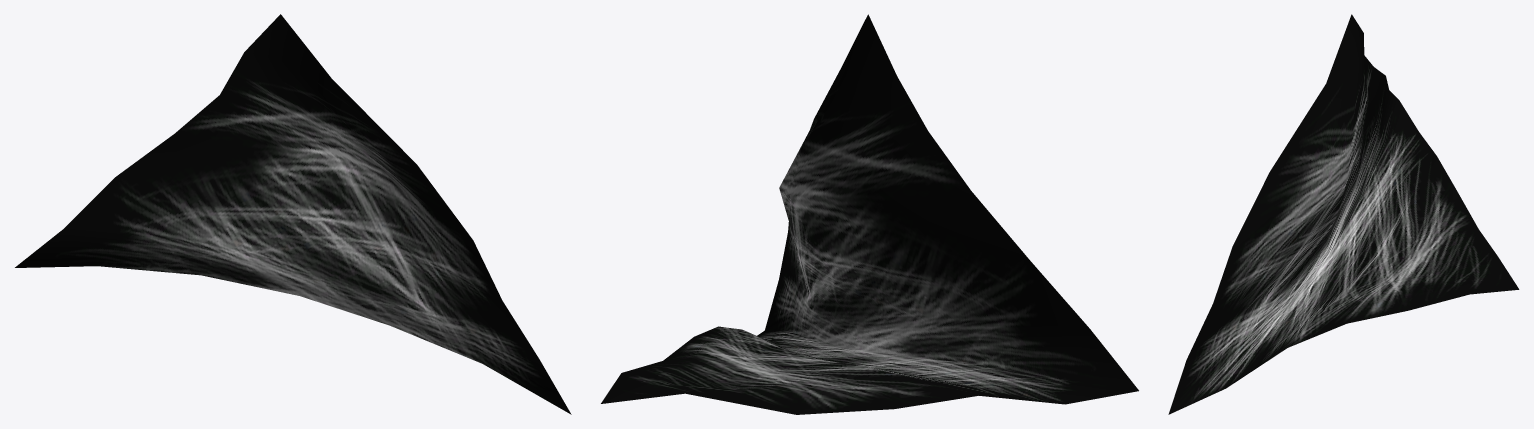
File: SWORDLIGHT20_PS-AREA01_CORNERWEB14.fbx
3 views of the same model, side by side, from view 1: azimuth 30°, elevation 25°; view 2: azimuth 150°, elevation 25°; view 3: azimuth 270°, elevation 25° (orthographic). The views are drawn at different scales.
Visible parts, largest first — view 1: SWORDLIGHT20_PS-AREA01_CORNERWEB14; view 2: SWORDLIGHT20_PS-AREA01_CORNERWEB14; view 3: SWORDLIGHT20_PS-AREA01_CORNERWEB14.
Boxes of the visible parts, <box> form: SWORDLIGHT20_PS-AREA01_CORNERWEB14: <box>15,14,571,414</box>; SWORDLIGHT20_PS-AREA01_CORNERWEB14: <box>601,14,1138,414</box>; SWORDLIGHT20_PS-AREA01_CORNERWEB14: <box>1168,14,1519,414</box>.
Bounding box in the file's own units: 94275 × 78297 × 77413.
Materials: 1 (1 with a texture image).
